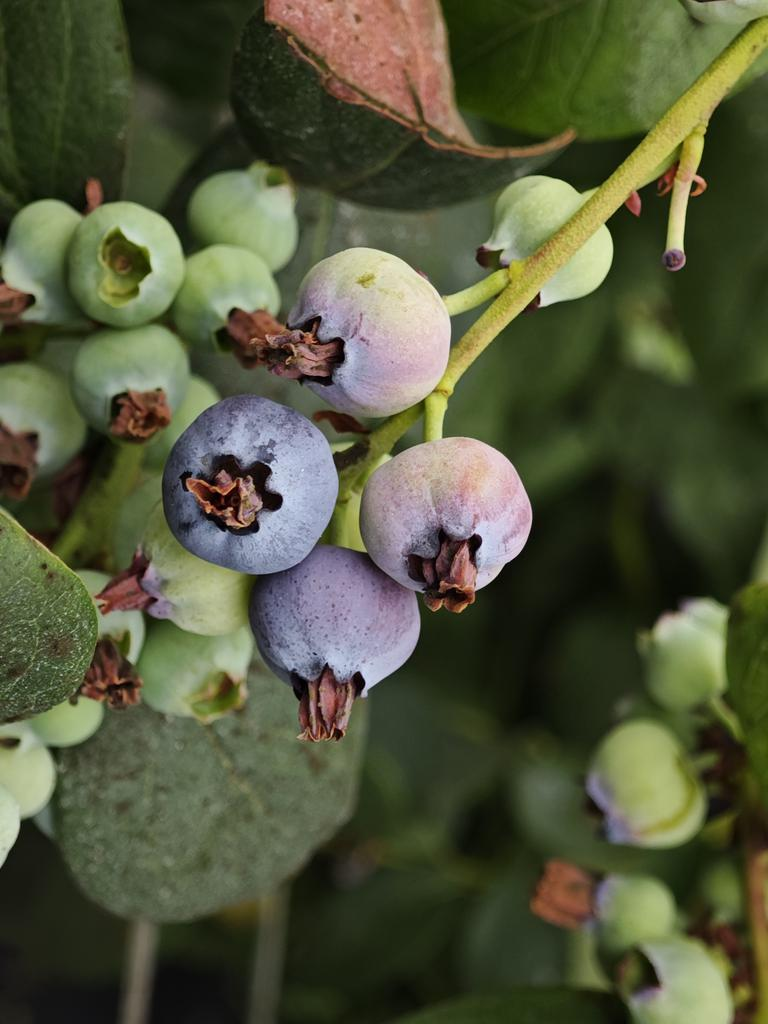RipeBlueBerry: (164, 394, 334, 581)
Semi-RipeBlueBerry: (359, 440, 537, 600), (289, 240, 446, 409)
UnripeBlueBerry: (584, 721, 709, 849), (71, 199, 181, 319)
